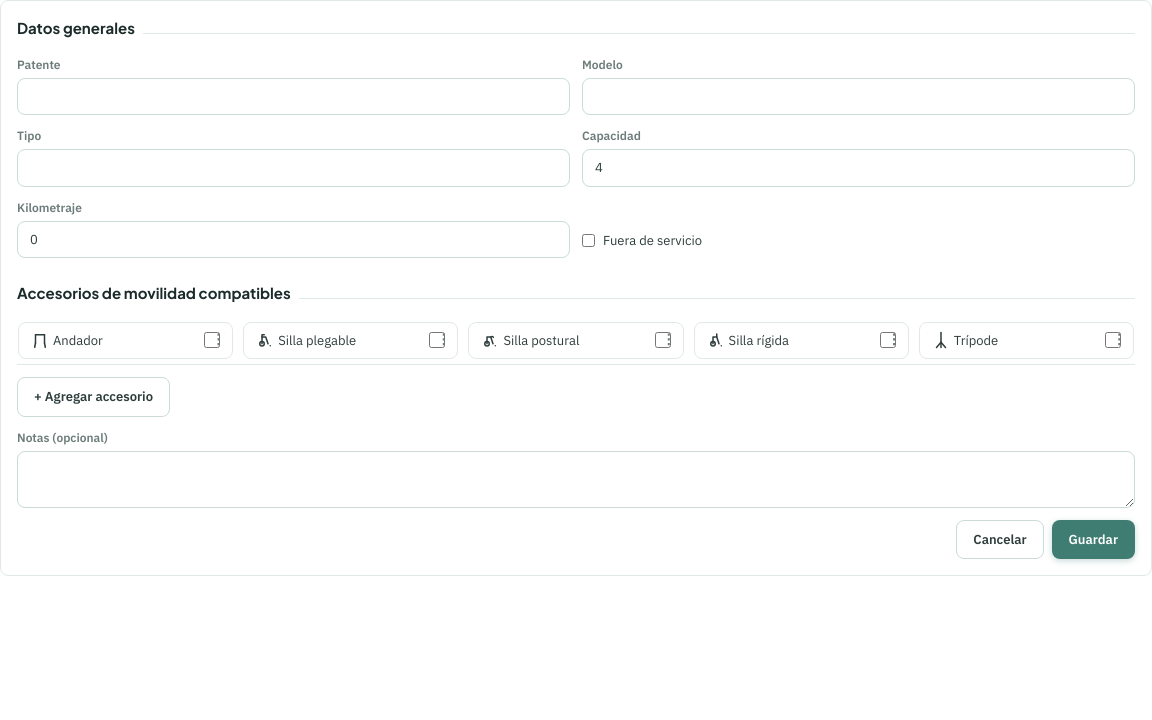
Scenario: VehiculoForm › bloquea el guardado y señala patente/capacidad inválidos cuando se envía vacío
Replace the text in the number field labelled "Capacidad" with "0" at (858, 168), box [582,149,1135,186]
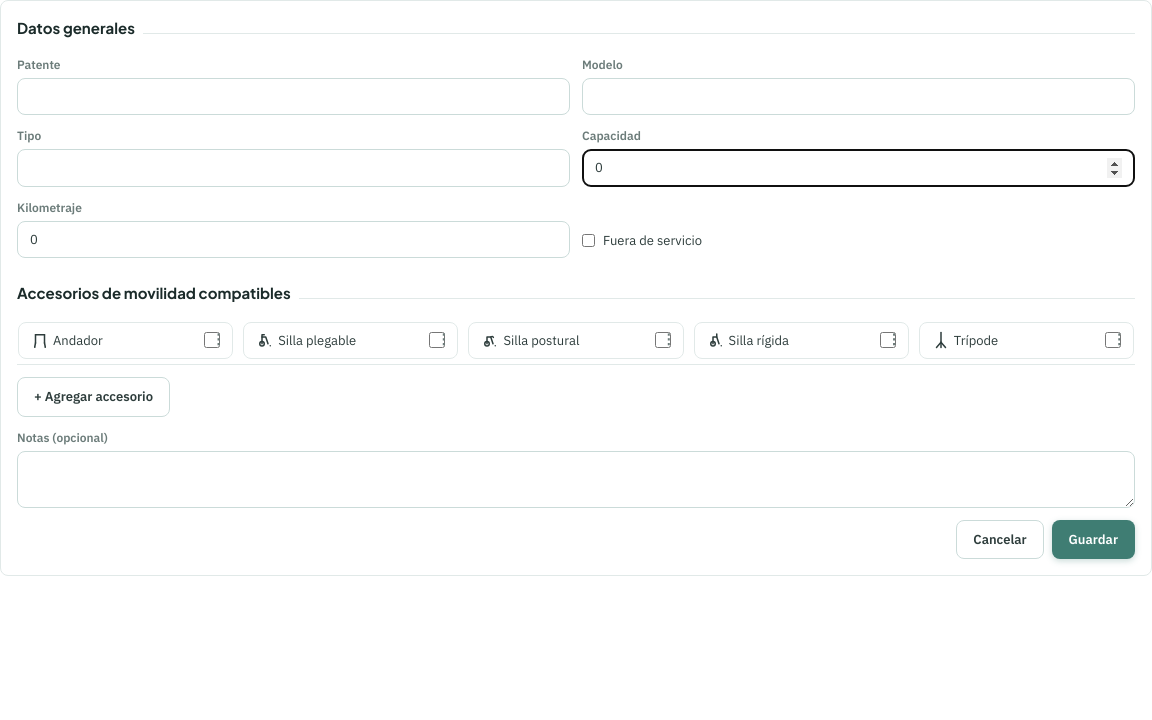
Click the button "Guardar".
click(1093, 539)  # box [1052,520,1135,559]
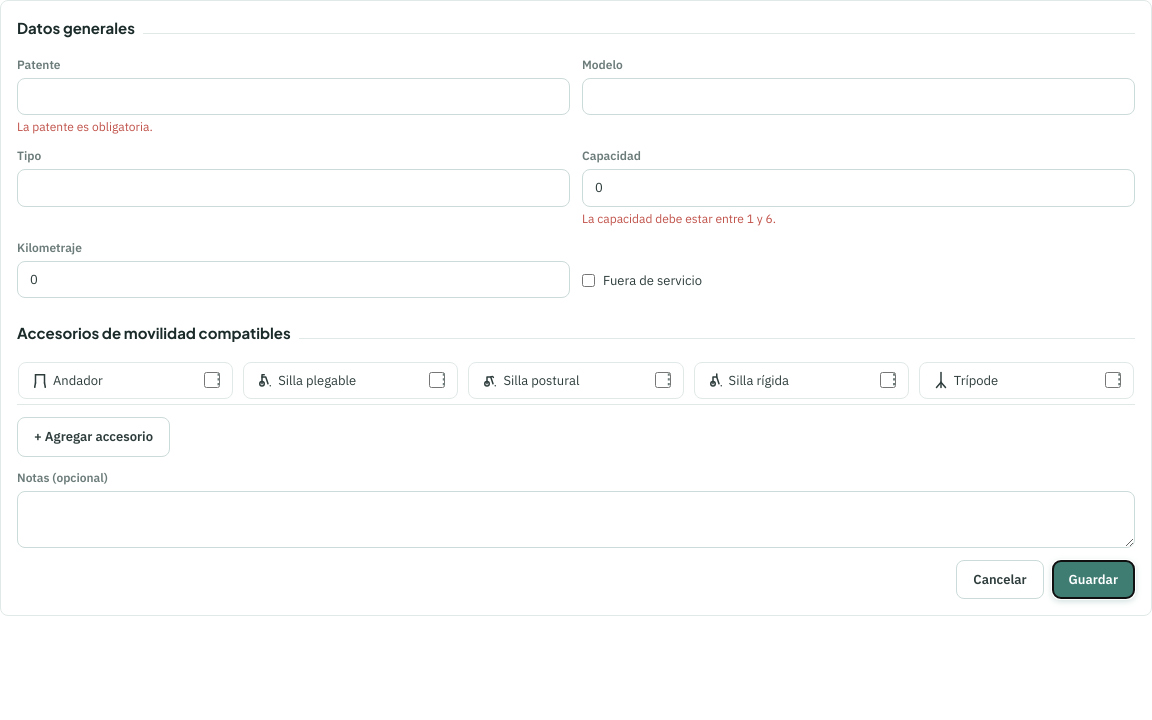
Expected: the text "La patente es obligatoria." is shown, [17,119,153,134]
Expected: the text "La capacidad debe estar entre 1 y 6." is shown, [582,210,776,226]
